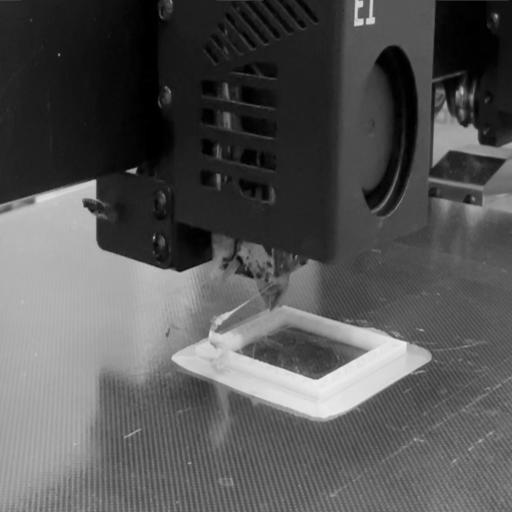spaghetti_and_stringing: (204, 299, 289, 379)
